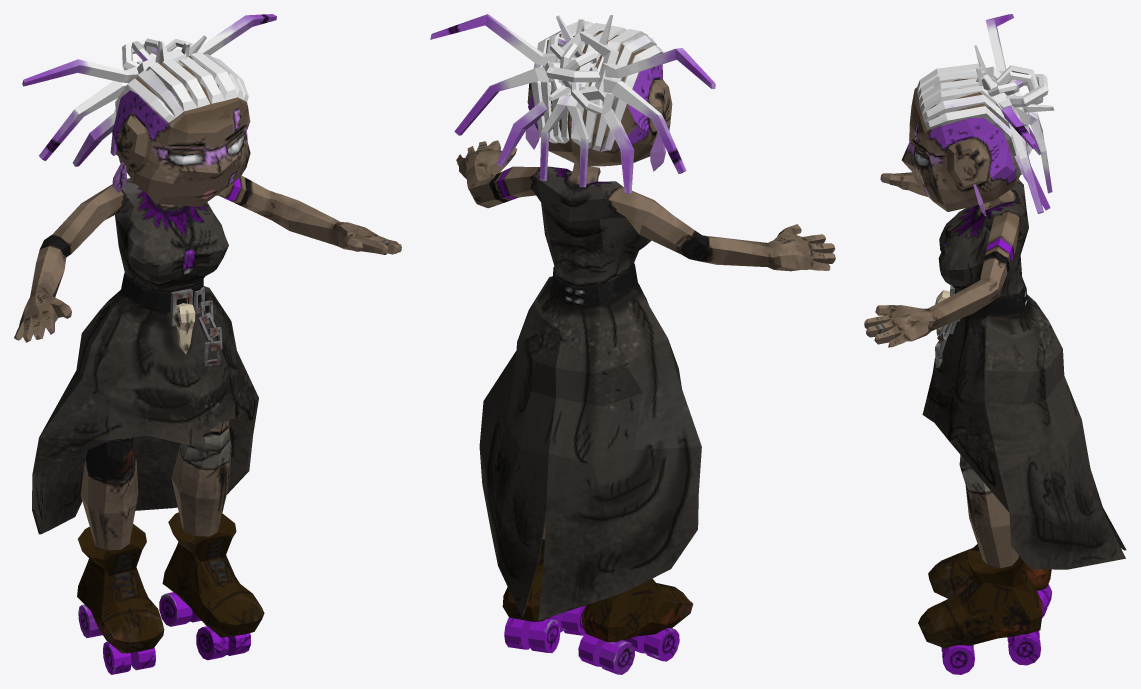
The model's file is bruja_000222.obj.
The picture shows the model from 3 angles, left to right: view 1: azimuth 30°, elevation 25°; view 2: azimuth 150°, elevation 25°; view 3: azimuth 270°, elevation 25°; orthographic projection. The views are drawn at different scales.
Visible parts, largest first — view 1: Bruja_Plane.001; view 2: Bruja_Plane.001; view 3: Bruja_Plane.001.
Part boxes in pixels (box(x1,y1,x2,y2)): Bruja_Plane.001: box(14, 14, 401, 674); Bruja_Plane.001: box(430, 14, 835, 674); Bruja_Plane.001: box(864, 14, 1126, 674).
Bounding box in the file's own units: 10.5 × 16.7 × 6.66.
